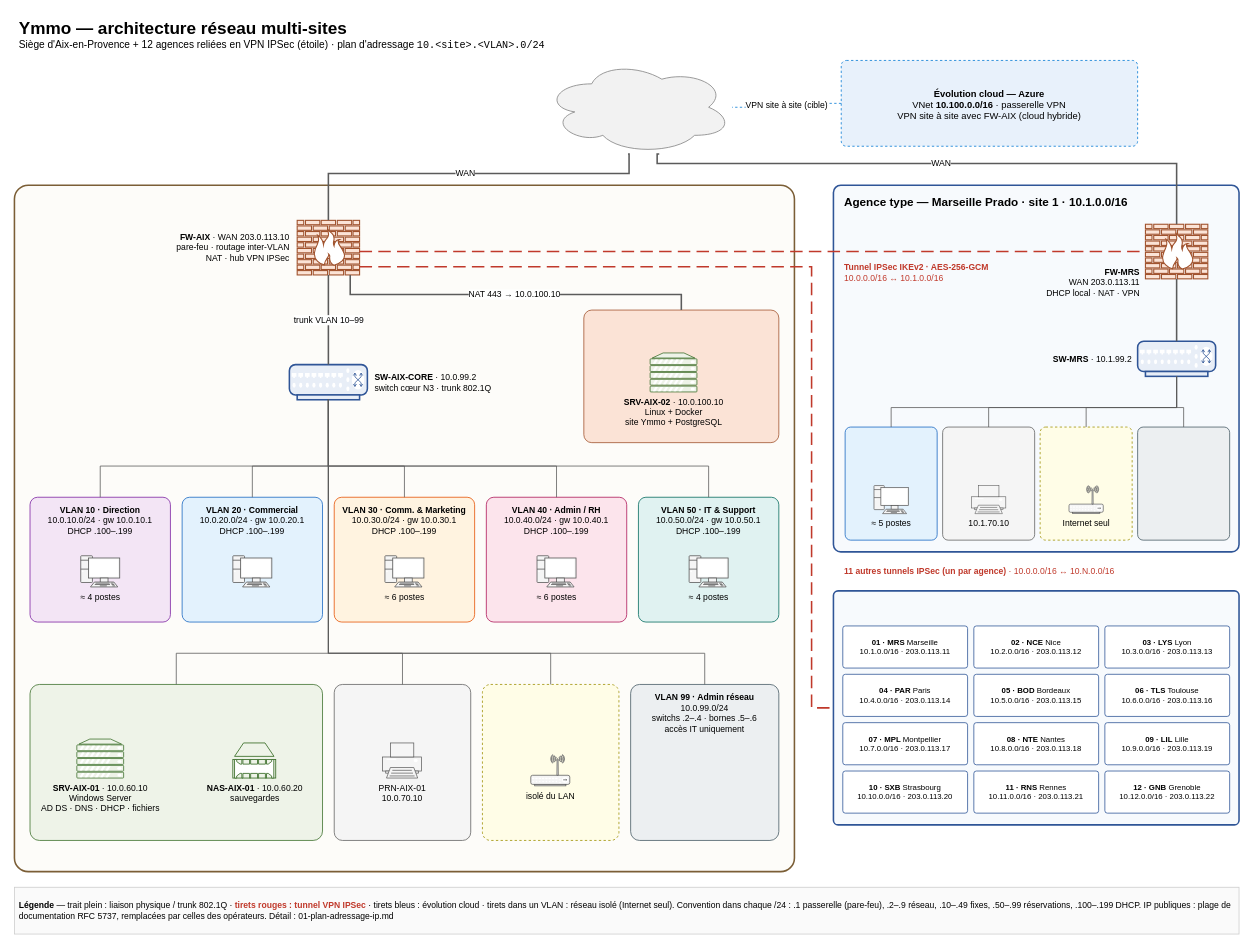
Image size: 1253x948. Some labels were removed from this diagram. The box of each missing label's shape, as (x1, y1, x2, y2) in pixels:
12 agences — même gabarit que l'agence type (seul le 2ᵉ octet change): (832, 590, 1239, 825)
Internet opérateurs (fibre pro, IP fixes): (544, 60, 732, 154)
Siège — Aix-en-Provence · site 0 · 10.0.0.0/16: (13, 184, 795, 872)
VLAN 100 · DMZ 10.0.100.0/24: (583, 309, 779, 443)
VLAN 20 · Commercial 10.1.20.0/24 DHCP .100–.199: (844, 426, 937, 540)
VLAN 60 · Serveurs 10.0.60.0/24 · adresses fixes: (29, 684, 323, 840)
VLAN 70 · Impression 10.0.70.0/24: (333, 684, 471, 840)
VLAN 70 · Impression 10.1.70.0/24: (942, 426, 1035, 540)
VLAN 90 · Wi-Fi invités 10.0.90.0/24 Internet uniquement: (482, 684, 619, 840)
VLAN 90 · Wi-Fi invités 10.1.90.0/24: (1039, 426, 1132, 540)
VLAN 99 · Admin réseau 10.1.99.0/24: (1137, 426, 1230, 540)
≈ 10 postes: (232, 555, 272, 587)
